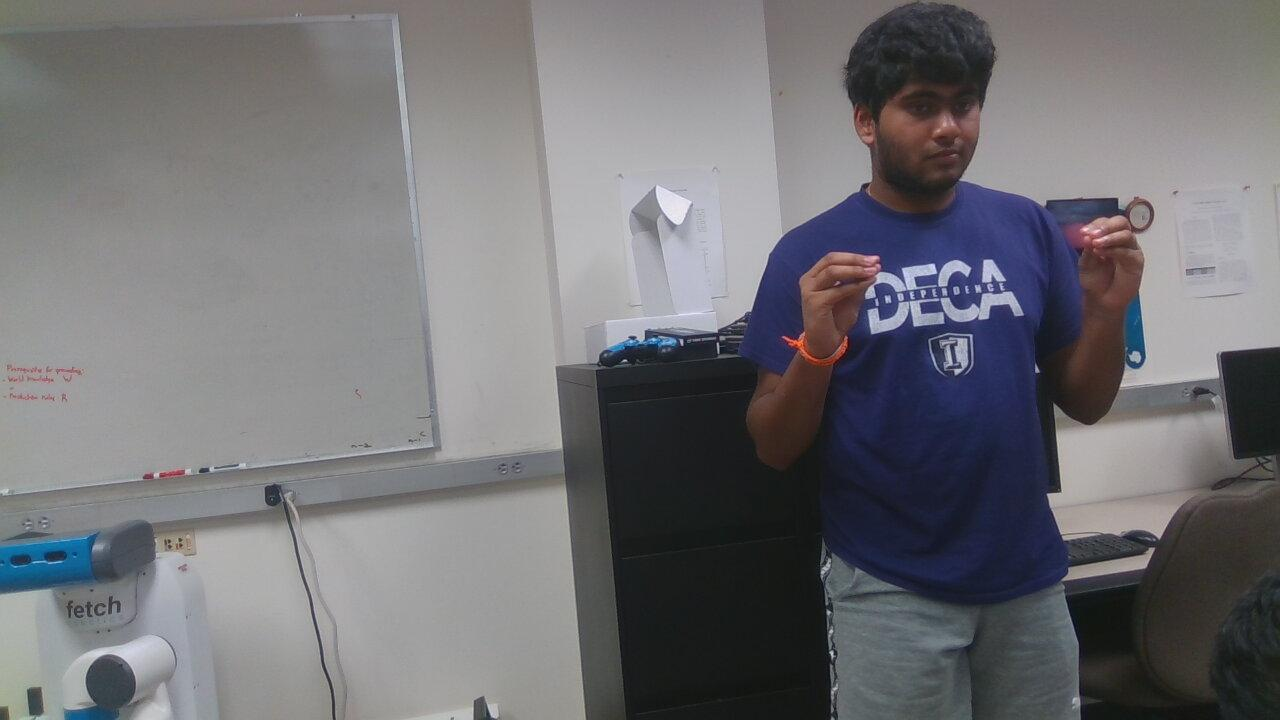hands: (788, 239, 895, 366), (1056, 207, 1162, 316)
